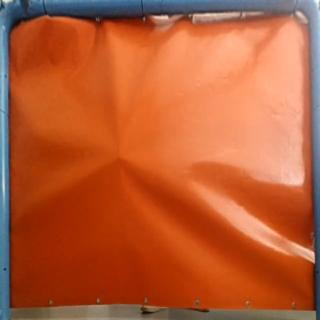Hit-hRxx: (114, 152, 128, 164)
